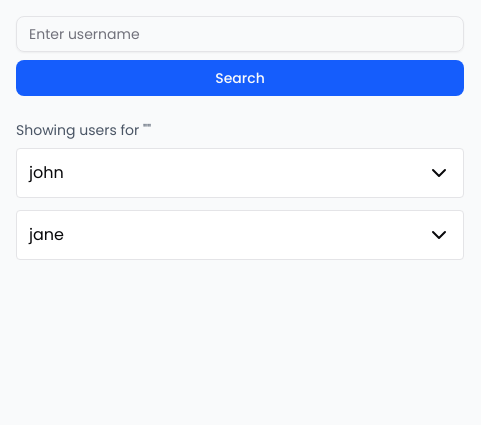
Test case: App Integration › shows users after search and shows repos when user is expanded
The width and height of the screenshot is (481, 425).
// Type in search input
Type "dev" into the field with placeholder "Enter username". click: x=240, y=34
box: [16,16,464,52]
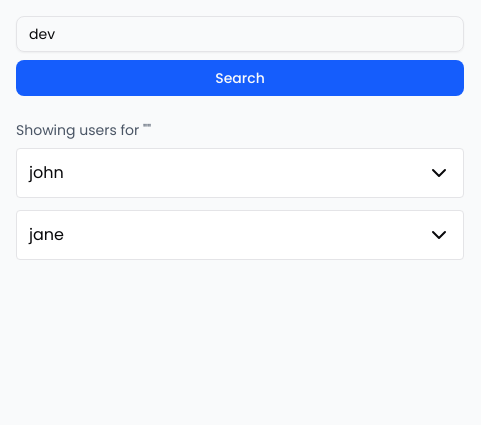
// Click Search
Click the button "Search". click: x=240, y=78
box: [16,60,464,96]
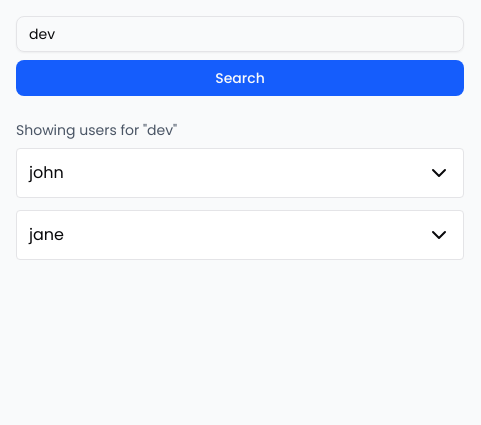
Check: the text "jane" is shown, box [29,223,64,247]
// Expand "john"
Click the text "john". click: x=46, y=173
box: [29,161,64,185]
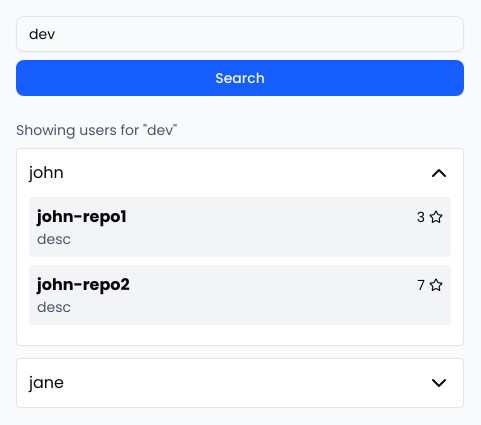
Check: the text "john-repo1" is shown, box [37,205,126,229]
Check: the text "john-repo2" is shown, box [37,273,130,297]
